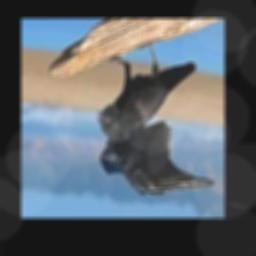Crow: (96, 39, 214, 196)
